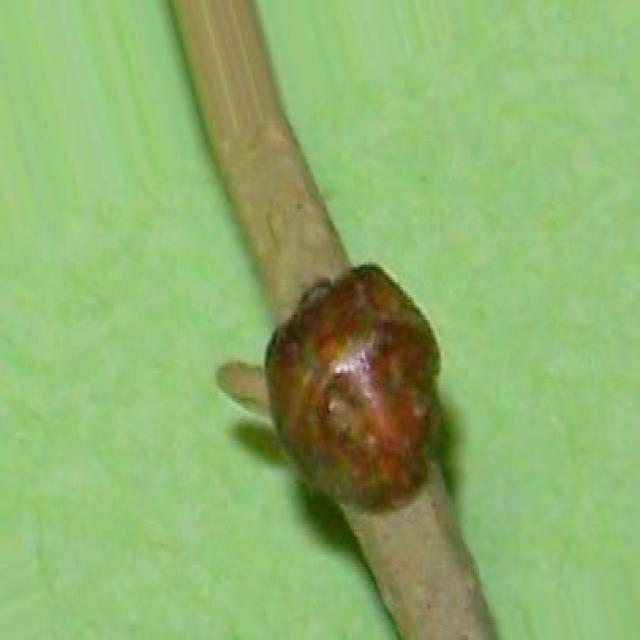BlackScale: (266, 264, 440, 502)
